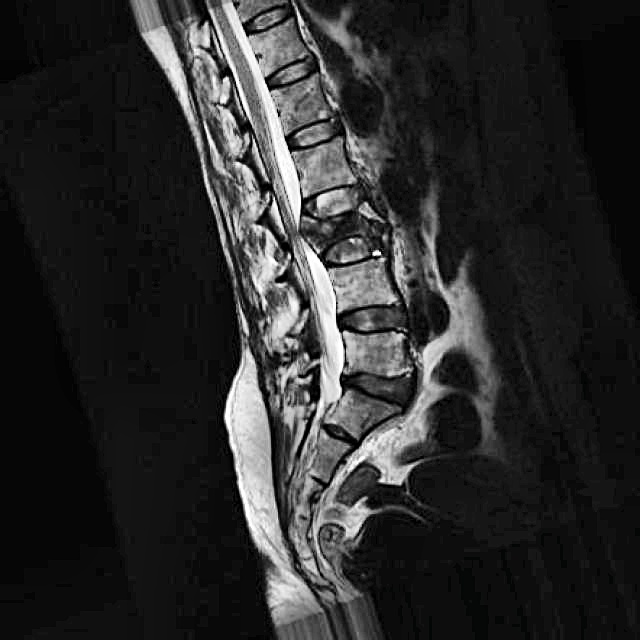Comminuted: (292, 180, 391, 283)
